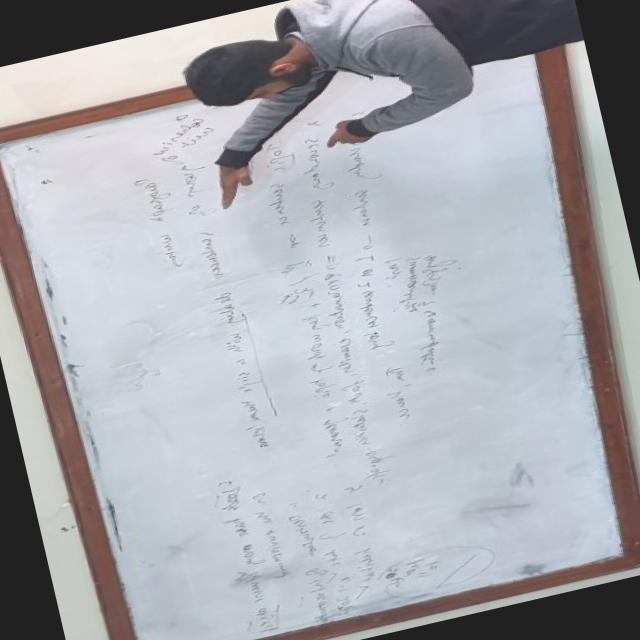Instructor: (155, 0, 572, 140)
White-board: (0, 19, 633, 640)
